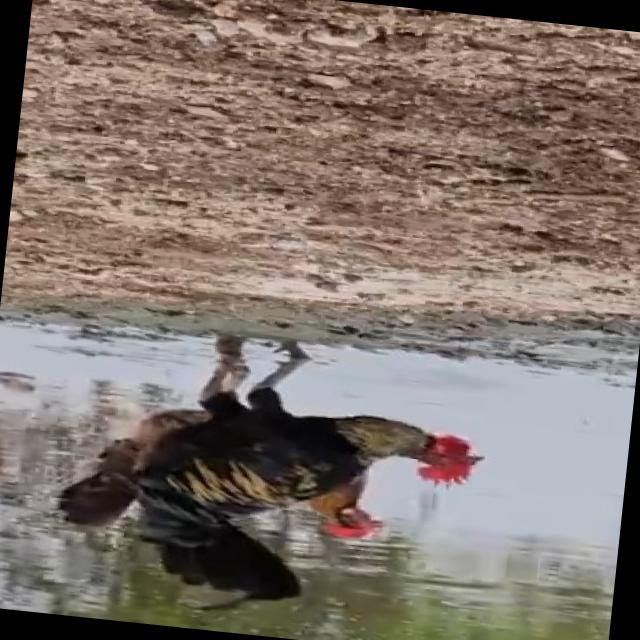drinking: (49, 319, 491, 624)
